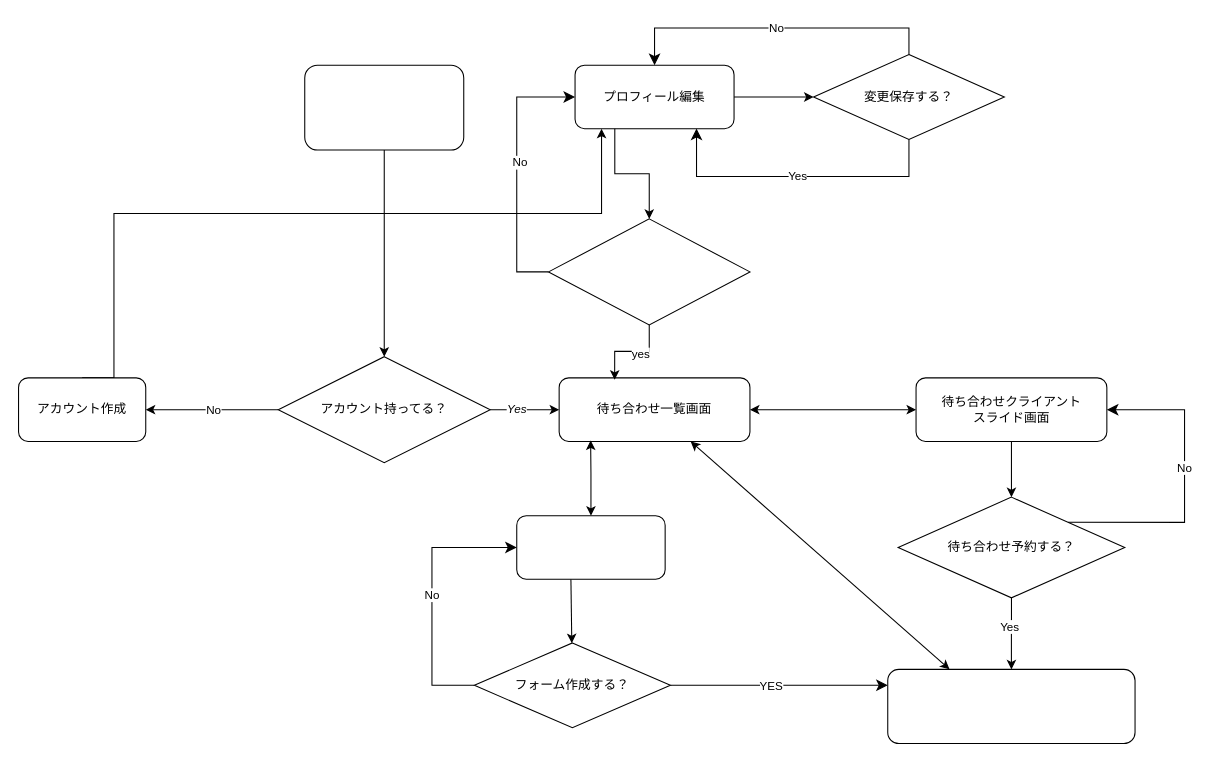
Some shapes in this 1214 by 762 pixel diagram are drawn without their labels. The shapes that lost their labels are listed below. From the top down, each one's centre as x and y in pixels, then its label:
At (x=384, y=107): "ログイン or ユーザー登録 画面".
At (x=648, y=271): "記入漏れ無い？".
At (x=590, y=547): "待ち合わせホスト画面".
At (x=1011, y=706): "待ち合わせ場所 待ち合わせ時間確認 画面".
